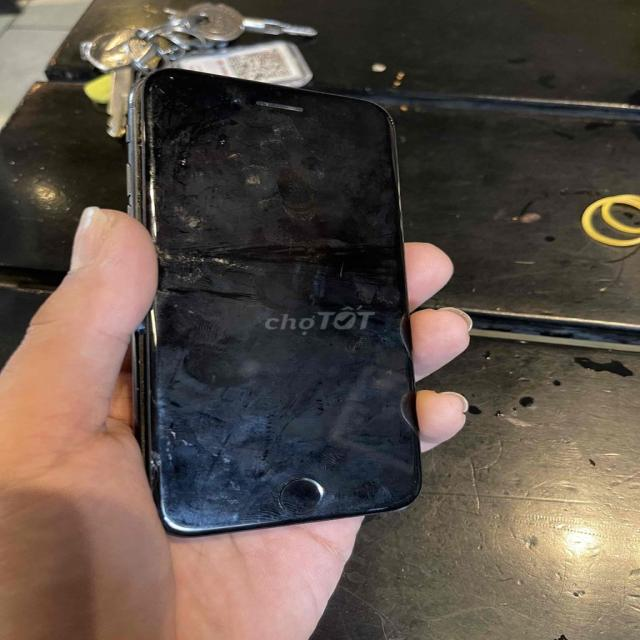physical_damage: (120, 81, 168, 222), (141, 430, 230, 491)
scratch: (143, 235, 260, 298), (210, 146, 267, 193), (247, 111, 310, 147), (294, 157, 336, 190)
